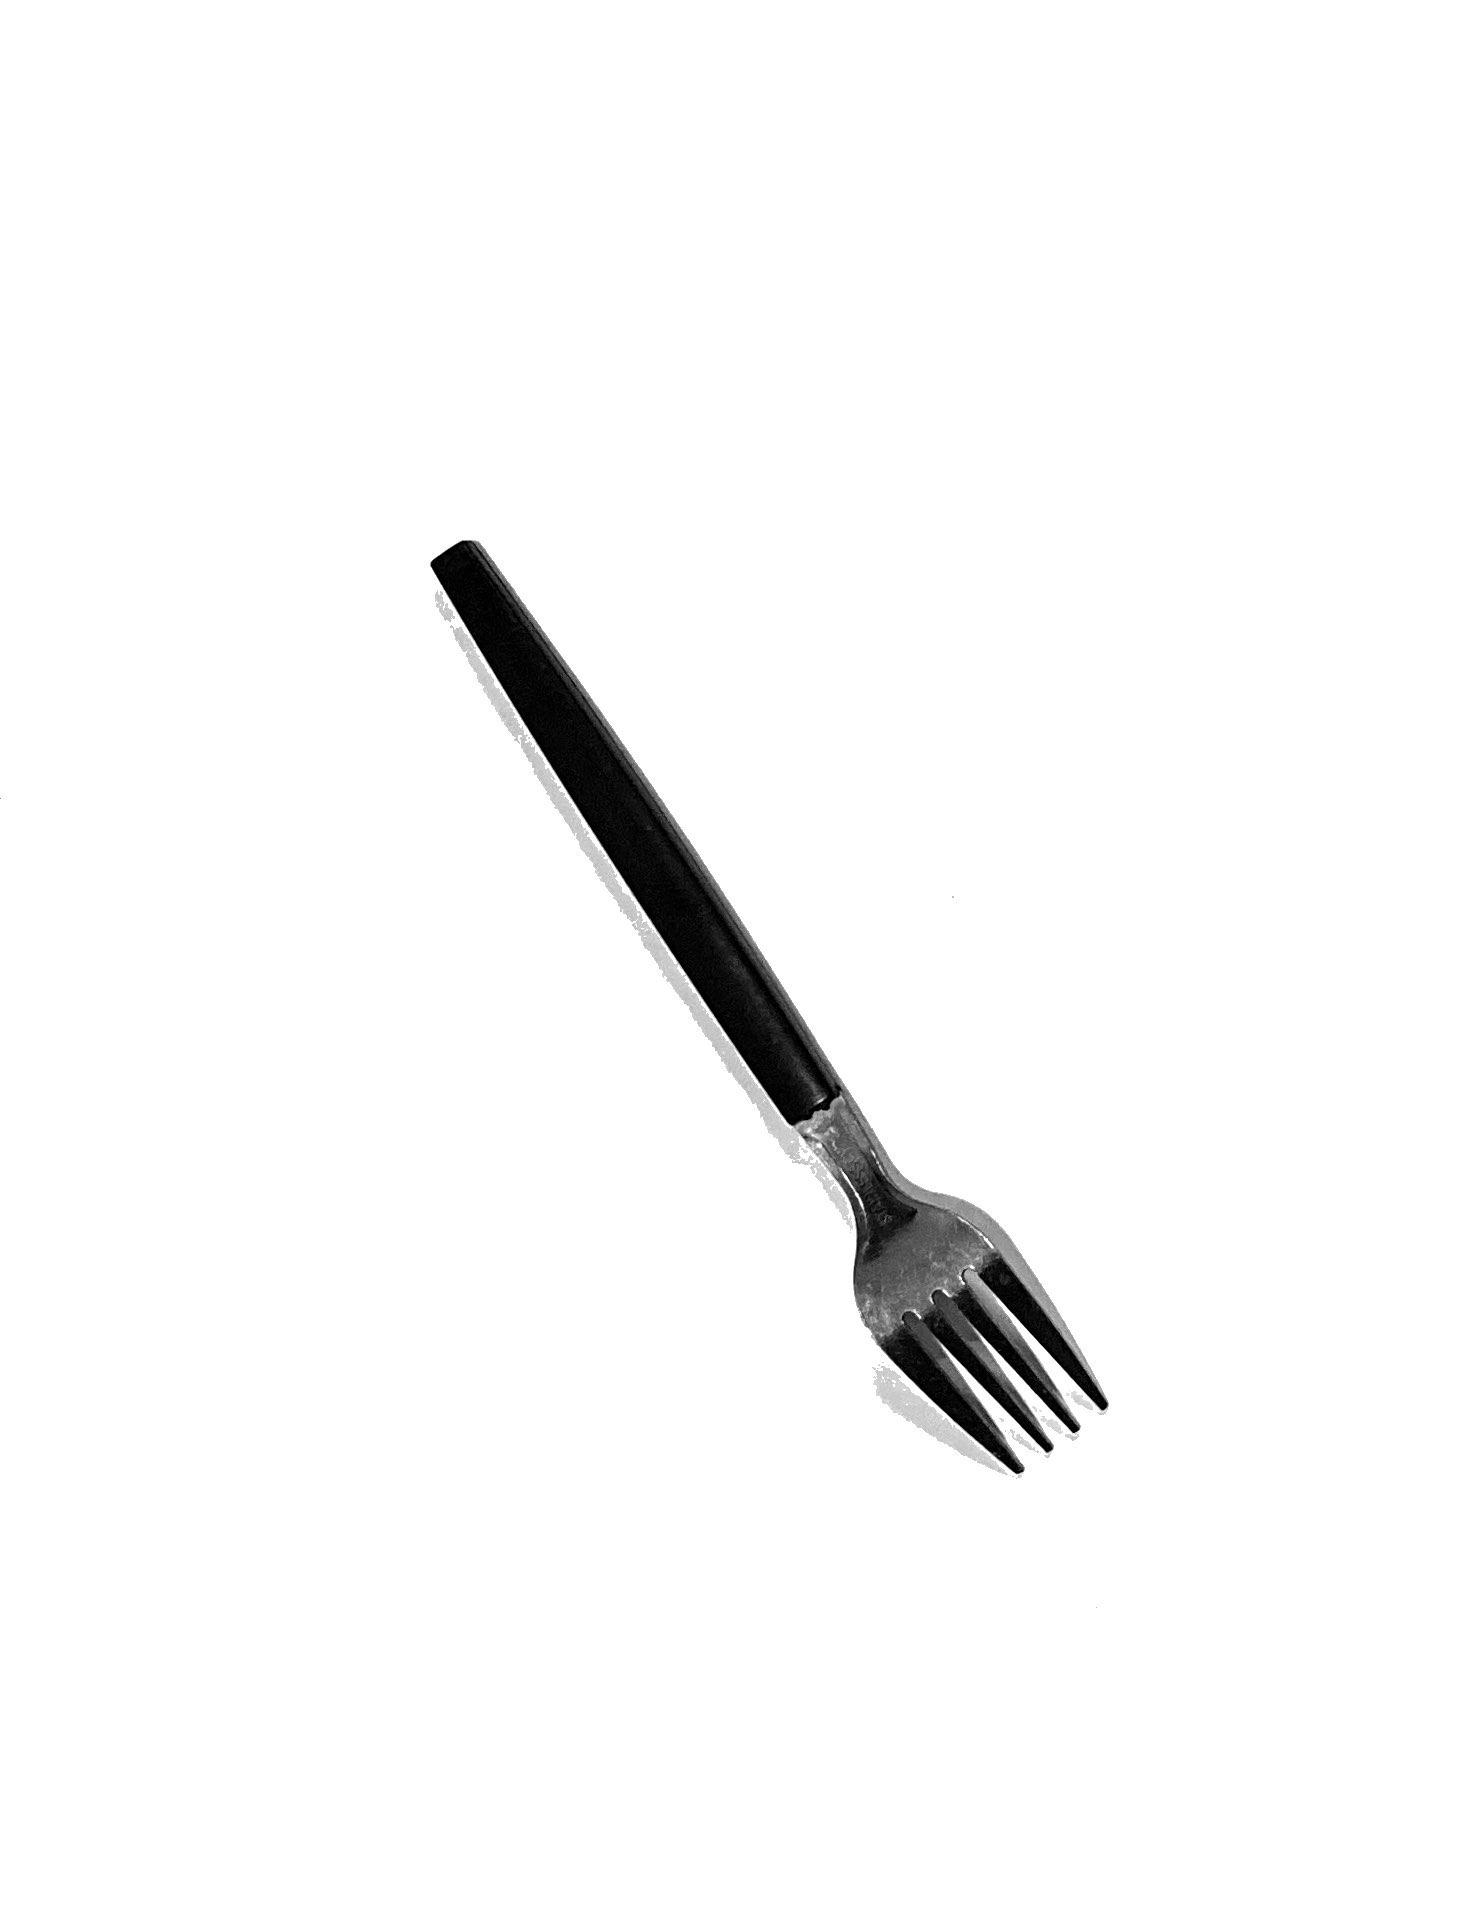Fork: (247, 506, 1271, 1561)
